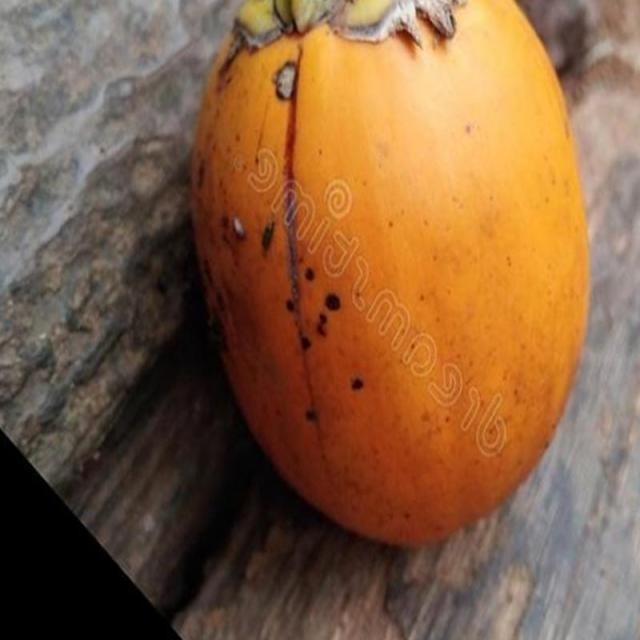good: (190, 0, 591, 551)
